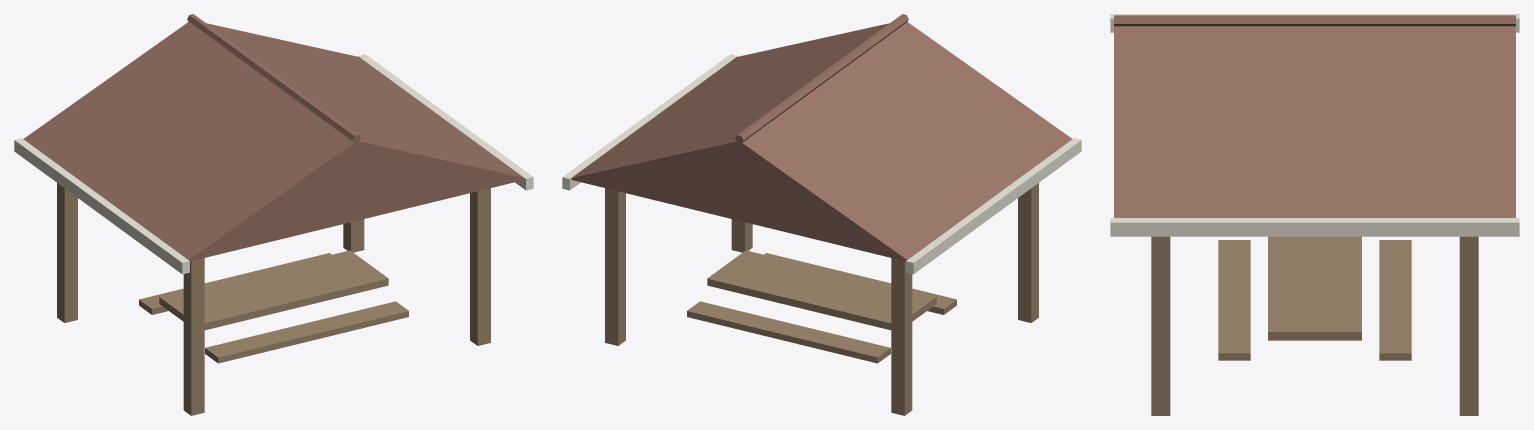
The picture shows the model from 3 angles, left to right: view 1: azimuth 30°, elevation 25°; view 2: azimuth 150°, elevation 25°; view 3: azimuth 270°, elevation 25°; orthographic projection. The views are drawn at different scales.
Bounding box in the file's own units: 7.36 × 5.11 × 6.1.
